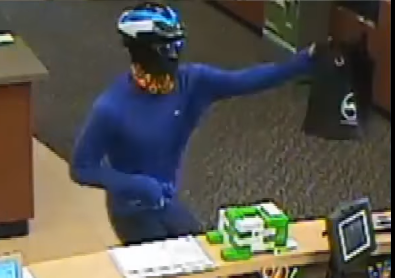helmet: (106, 2, 189, 35)
